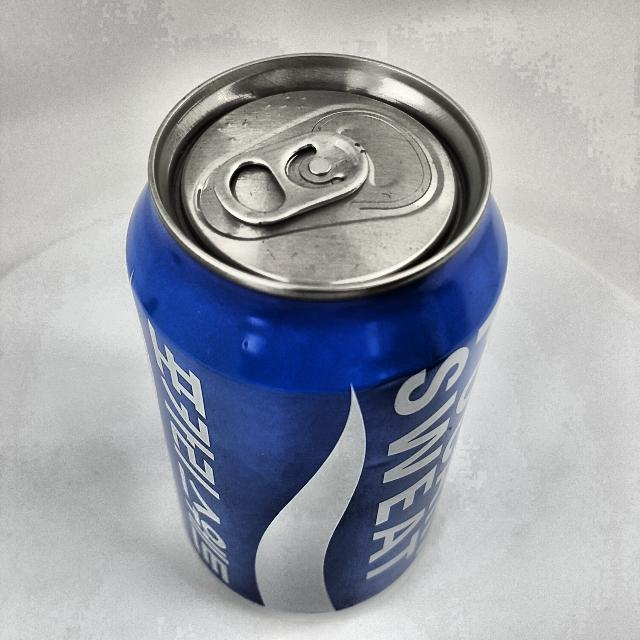pocarisweat: (128, 55, 508, 611)
